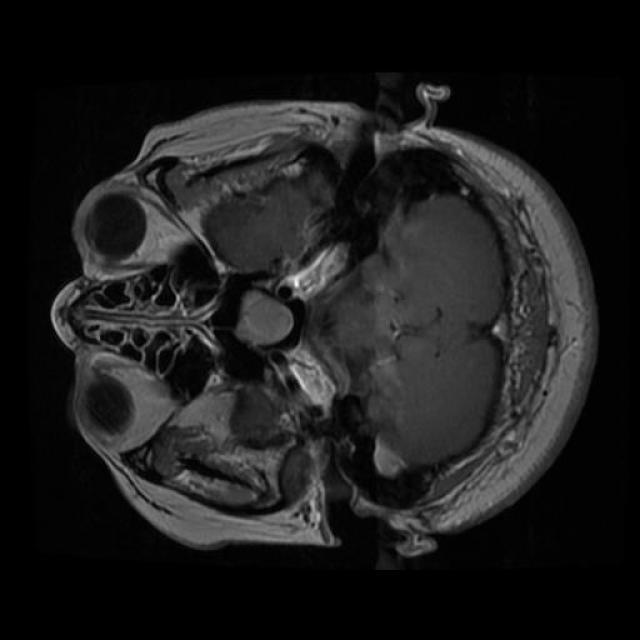Pituitary: (232, 288, 294, 346)
